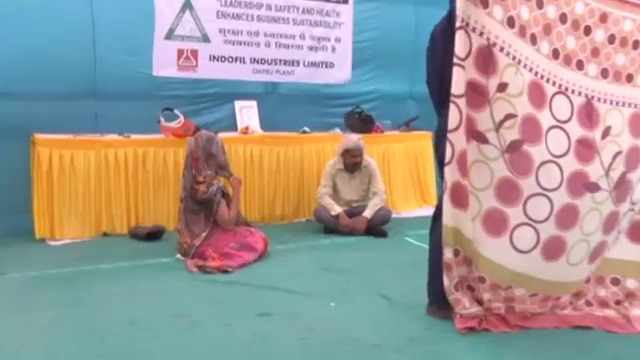helmet_off: (188, 130, 224, 168), (341, 136, 363, 174)
person: (174, 133, 273, 276), (309, 137, 393, 238)
